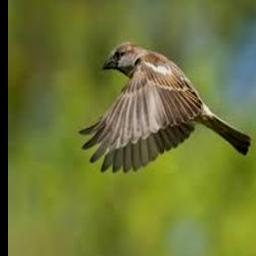Sparrow: (79, 42, 251, 172)
